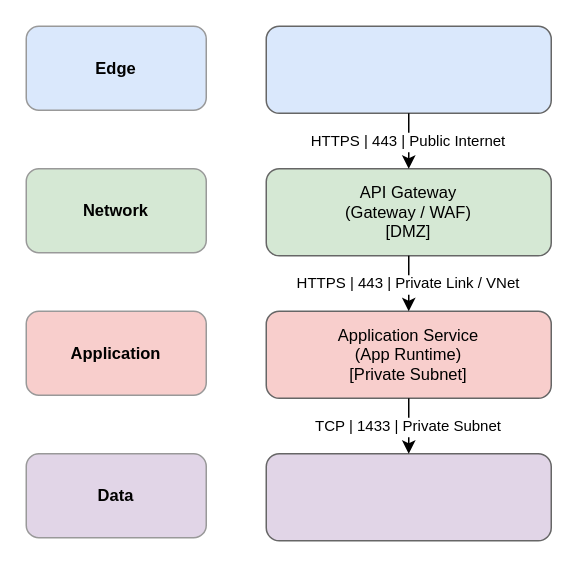
Image size: 578x567. Some labels were removed from this diagram. The centre of each missing label's shape, as x and y in pixels:
Internet / User (Client) [Public]: point (408, 69)
Primary Data Store (Managed Database) [Private Data Subnet]: point (408, 496)
